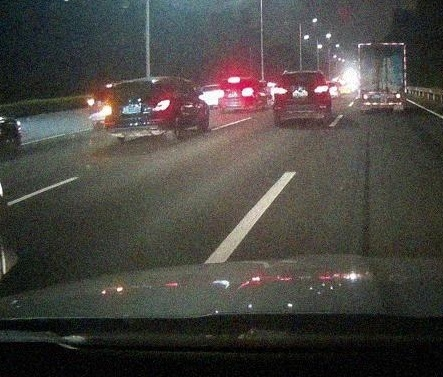L_light: (274, 86, 288, 95), (104, 104, 113, 116), (218, 89, 224, 98), (363, 93, 368, 99)
R_light: (152, 99, 171, 111), (314, 85, 329, 93), (242, 88, 253, 97), (395, 93, 401, 99)
T_light: (131, 81, 143, 84), (228, 79, 240, 82), (377, 44, 387, 47), (297, 73, 308, 75)
night-brake: (218, 76, 255, 112)
night-left: (104, 77, 172, 144)
night-no: (357, 41, 407, 113), (274, 71, 330, 126)
